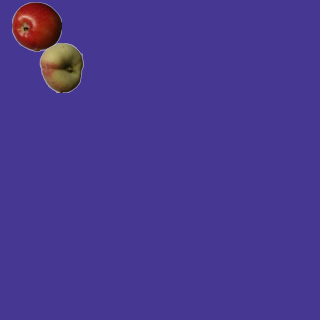Apple Braeburn: (11, 1, 61, 51)
Peach Flat: (36, 42, 86, 92)
